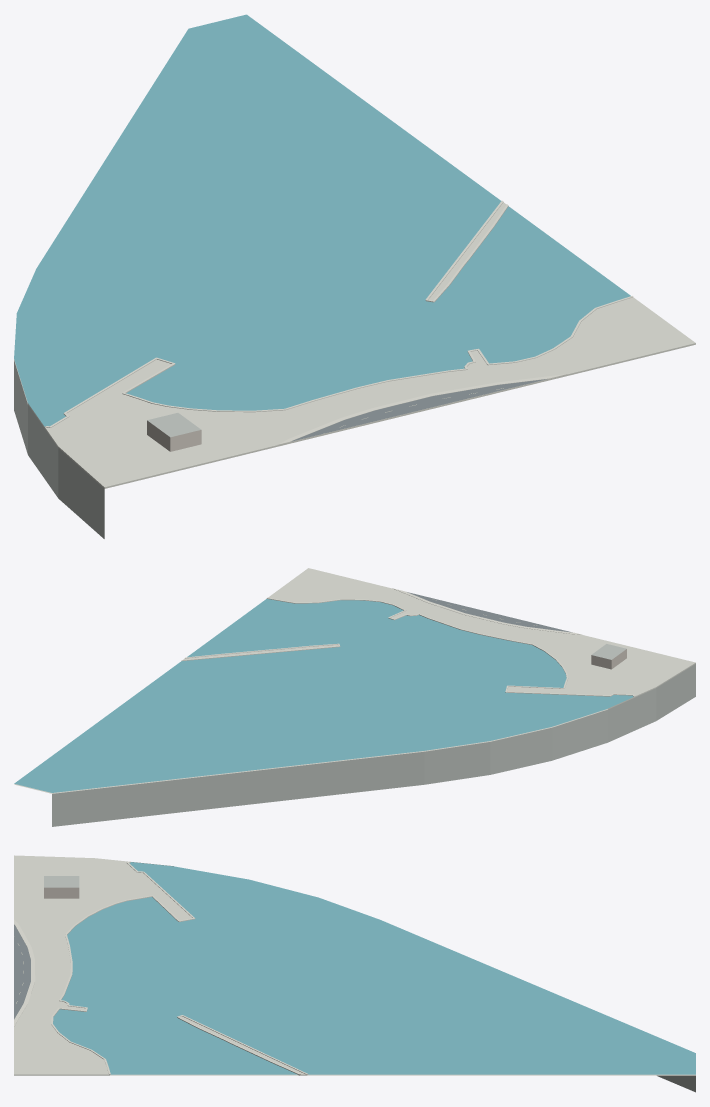
The picture shows the model from 3 angles, top to bottom: view 1: azimuth 30°, elevation 25°; view 2: azimuth 150°, elevation 25°; view 3: azimuth 270°, elevation 25°; orthographic projection. The views are drawn at different scales.
Parts seen in each view (by area): view 1: city; view 2: city; view 3: city.
Boxes of the visible parts, bbox=[...] form: city: bbox=[14, 14, 695, 538]; city: bbox=[14, 568, 695, 826]; city: bbox=[14, 855, 695, 1092].
Size of the model in its own units: 380 by 41 by 500.
